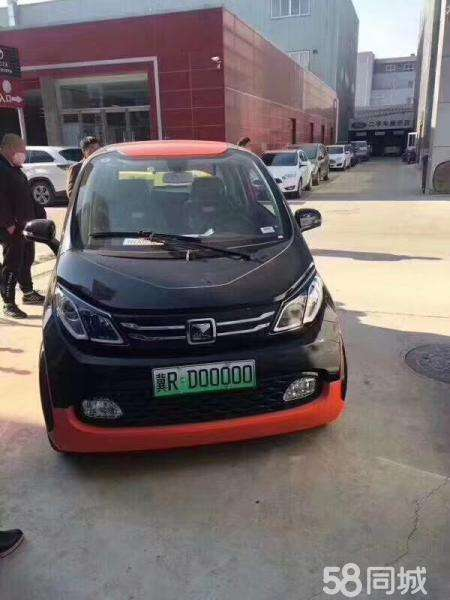plate: (144, 353, 267, 405)
